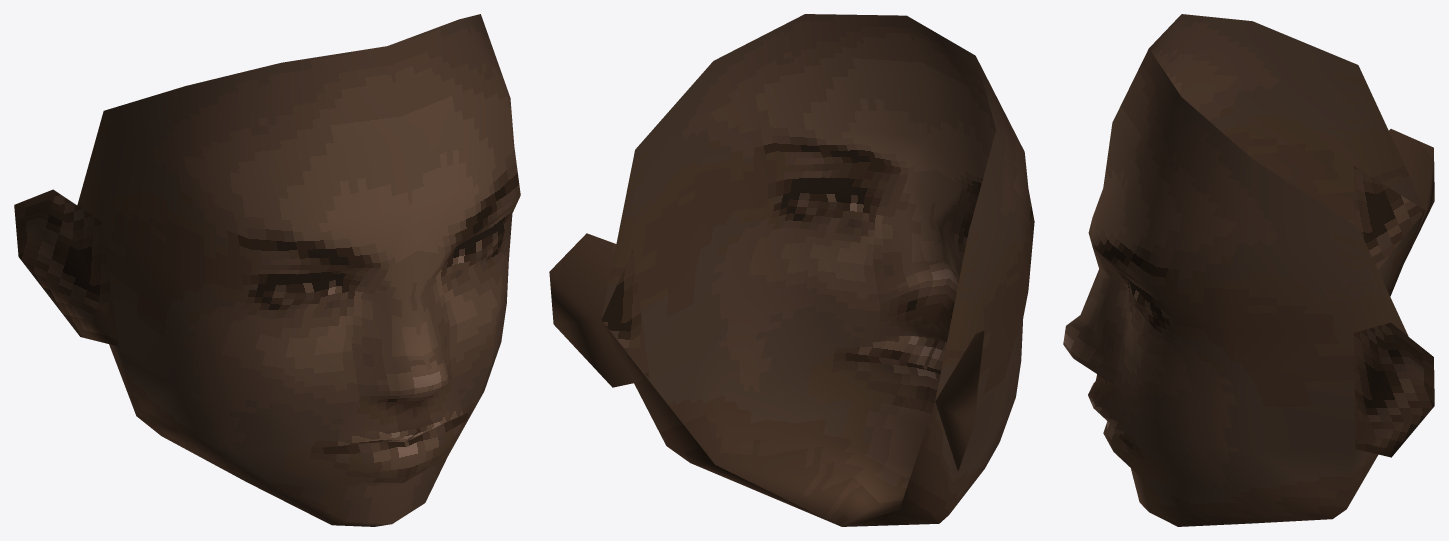
3 renders of one model, left to right at view 1: azimuth 30°, elevation 25°; view 2: azimuth 150°, elevation 25°; view 3: azimuth 270°, elevation 25°, orthographic. The views are drawn at different scales.
Bounding box in the file's own units: 19.4 × 20.27 × 14.55.
Materials: 1 (1 with a texture image).
